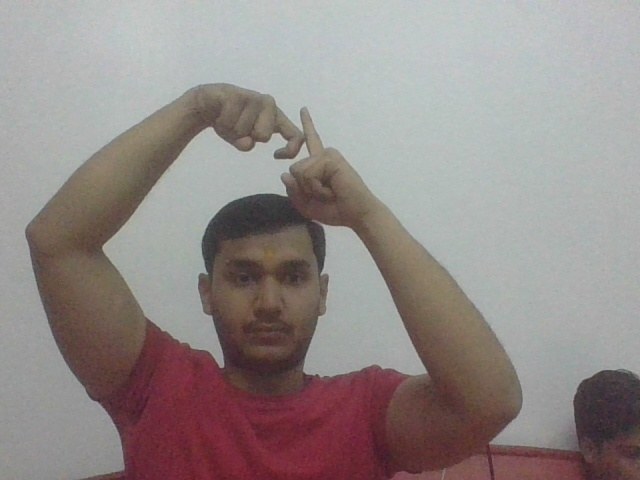K: (257, 76, 350, 191)
